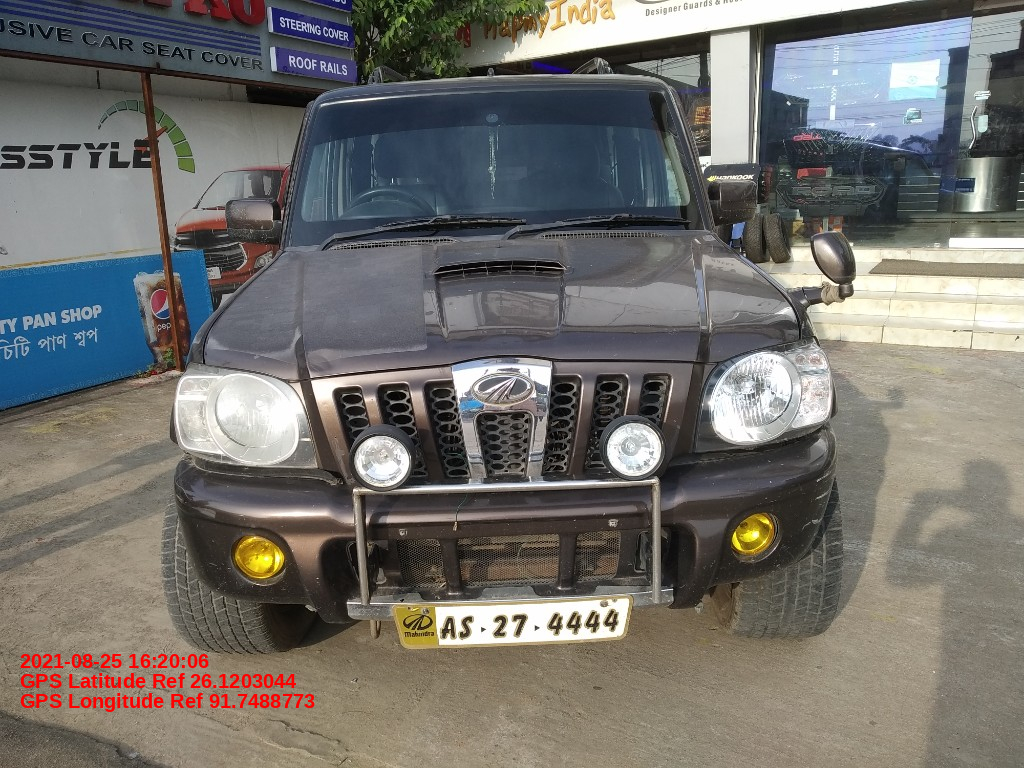Broken: (311, 457, 356, 499)
Pressed: (282, 324, 354, 385)
Scratched: (805, 469, 834, 535), (176, 484, 220, 524)
